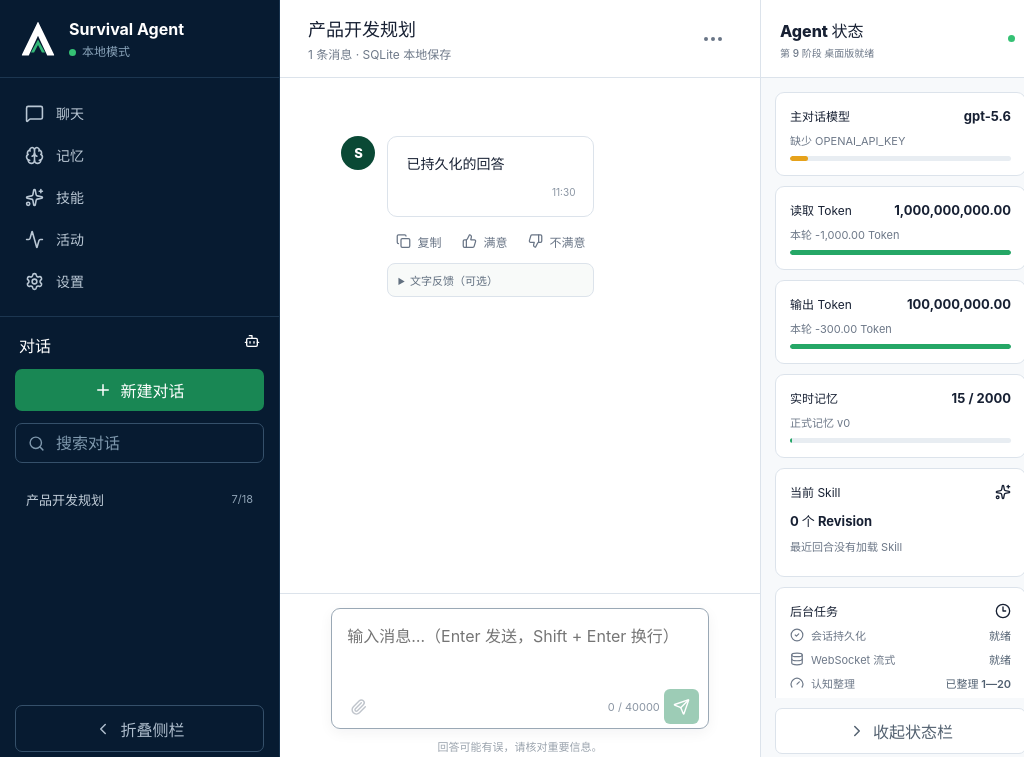
Scenario: phase 6 application › opens the independent management pages
What coordinates should you click on to do the following:
click the link "记忆"
I would click on:
 (54, 155)
Its box is [25,146,84,164].
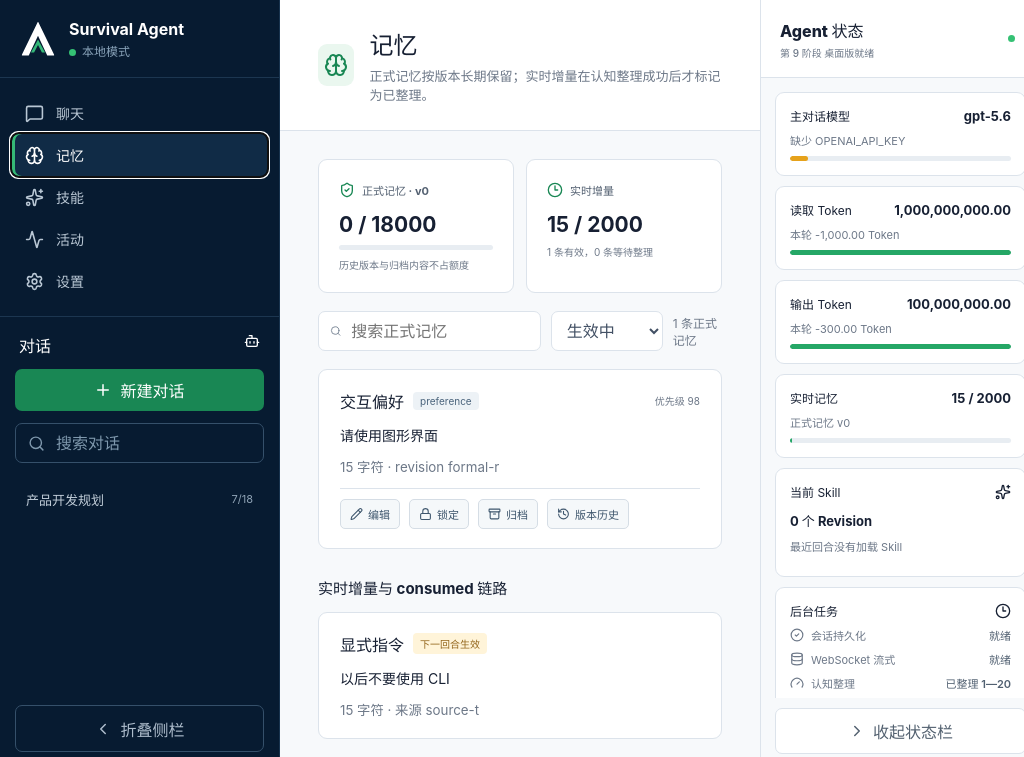
Expected: the heading "记忆" is shown, [370,31,418,60]
Expected: the text "以后不要使用 CLI" is shown, [340,670,450,686]
Expected: the text "交互偏好" is shown, [340,388,404,412]
What coordinates should you click on to do the following:
click the link "技能"
I would click on:
 (54, 197)
Its box is [25,188,84,206].
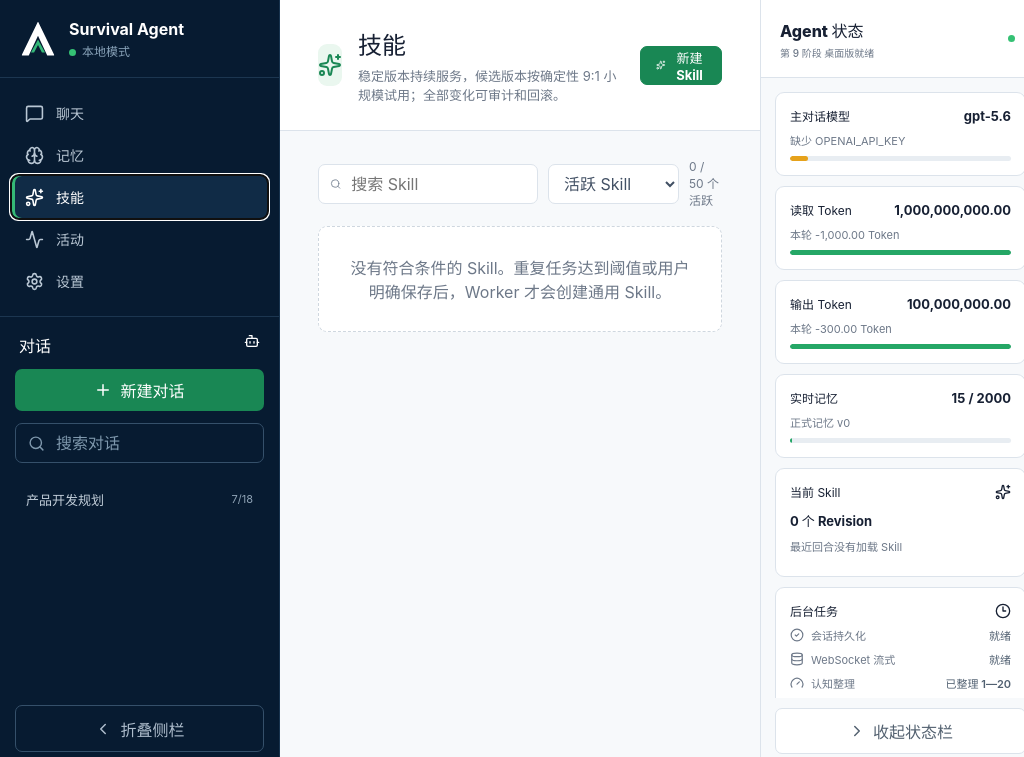
Expected: the heading "技能" is shown, [358,31,406,60]
What coordinates should you click on to do the following:
click the link "活动"
I would click on:
 (54, 239)
Its box is [25,230,84,248].
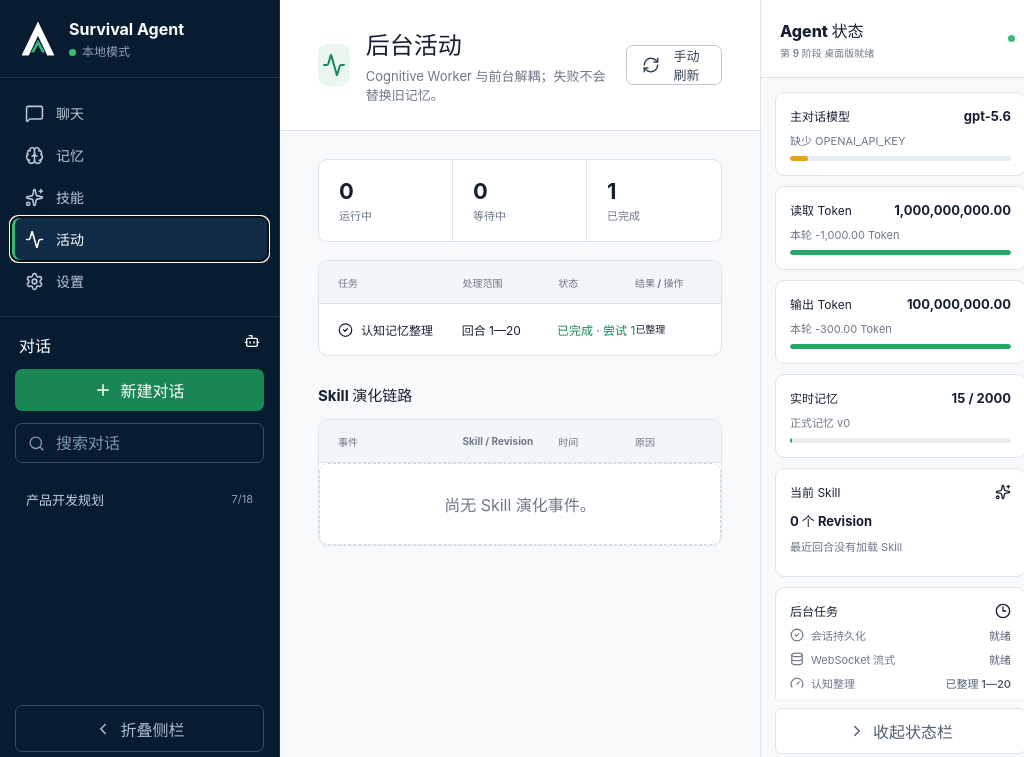
Expected: the heading "后台活动" is shown, [366,31,462,60]
Expected: the text "回合 1—20" is shown, [462,323,521,338]
Expected: the text "已完成 · 尝试 1" is shown, [557,321,635,338]
What coordinates should you click on to do the following:
click the link "设置"
I would click on:
 (54, 281)
Its box is [25,272,84,290].
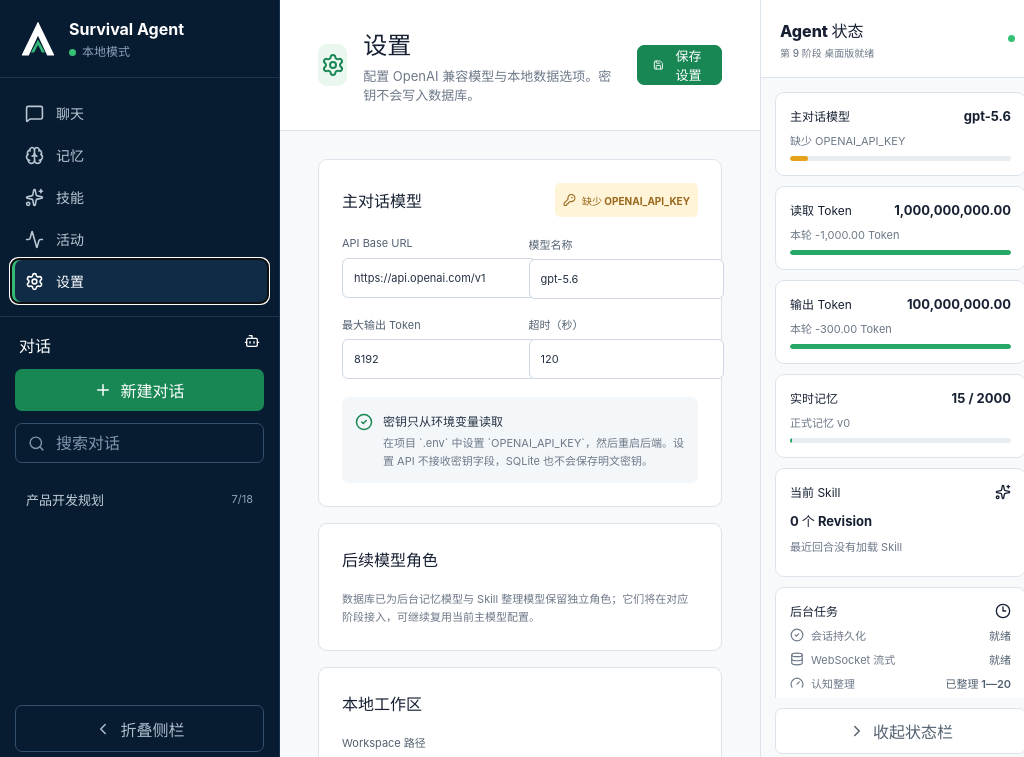
Expected: the heading "设置" is shown, [363,31,411,60]
